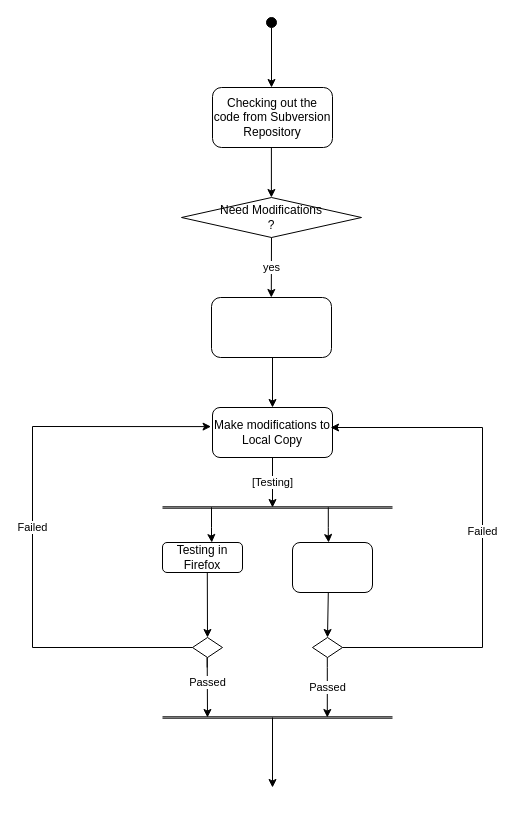
This 514x813 diagram has some shape labels left out. Here are the shapes that lost their labels. From the top down, the centre of each, then its label:
At [271,327]: "Check out code from Subversion Repository(Local Copy)".
At [332,567]: "Testing in Internet Explorer".
